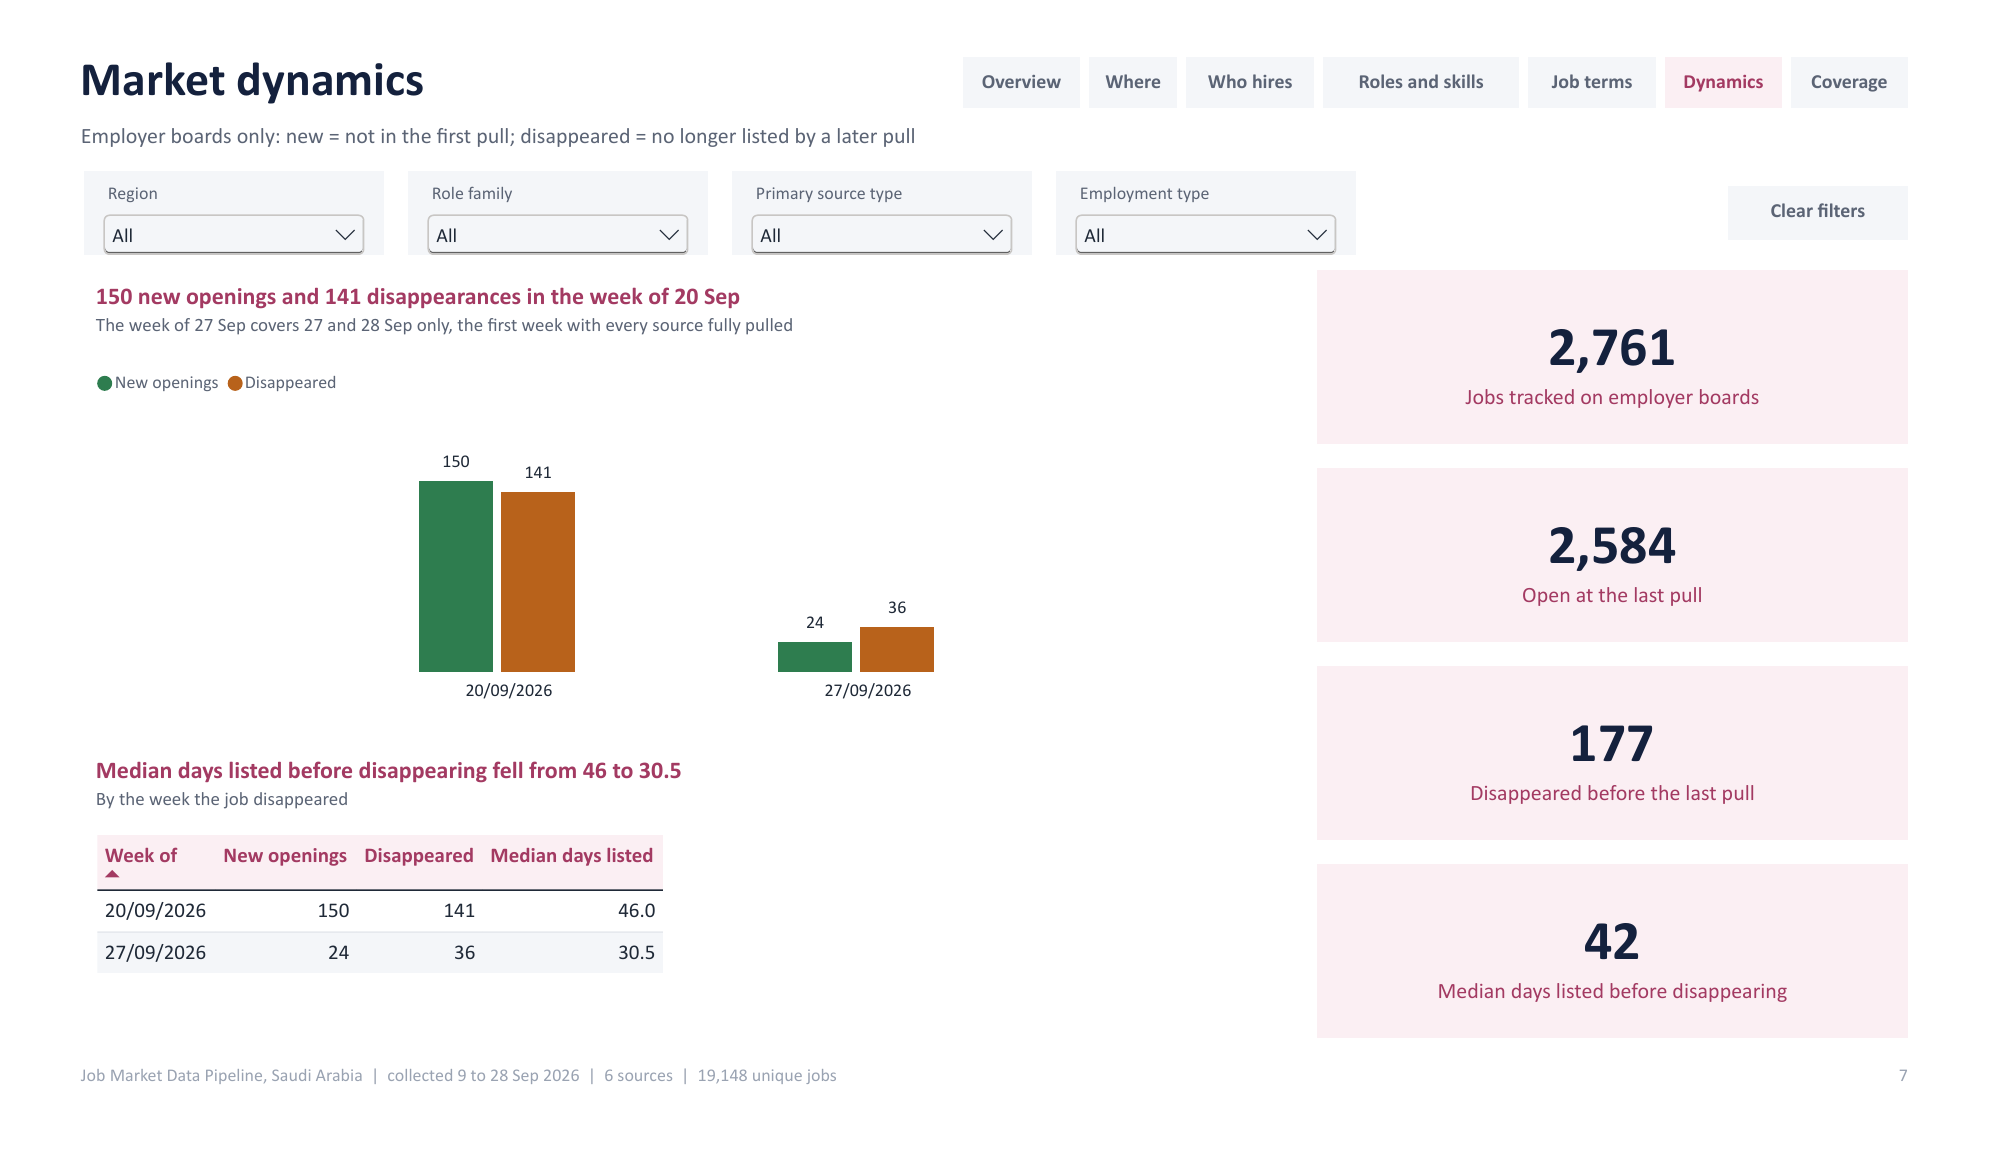

Layout of this report page (visuals, bound fields, positions):
{"tool":"powerbi","page":{"name":"Dynamics","canvas":[1280,720],"ordinal":6},"visuals":[{"type":"textbox","box":[22,2,660,60],"z":1000},{"type":"textbox","box":[22,50,760,36],"z":1100},{"type":"textbox","box":[618,14,78,34],"z":1200},{"type":"actionButton","box":[618,14,78,34],"z":1300},{"type":"textbox","box":[702,14,59,34],"z":1400},{"type":"actionButton","box":[702,14,59,34],"z":1500},{"type":"textbox","box":[767,14,85,34],"z":1600},{"type":"actionButton","box":[767,14,85,34],"z":1700},{"type":"textbox","box":[858,14,131,34],"z":1800},{"type":"actionButton","box":[858,14,131,34],"z":1900},{"type":"textbox","box":[995,14,85,34],"z":2000},{"type":"actionButton","box":[995,14,85,34],"z":2100},{"type":"textbox","box":[1086,14,78,34],"z":2200},{"type":"textbox","box":[1170,14,78,34],"z":2300},{"type":"actionButton","box":[1170,14,78,34],"z":2400},{"type":"slicer","fields":{"Values":["DIM_LOCATION.REGION"]},"box":[32,90,200,56],"z":2500},{"type":"slicer","fields":{"Values":["DIM_ROLE.ROLE_FAMILY"]},"box":[248,90,200,56],"z":2600},{"type":"slicer","fields":{"Values":["DIM_SOURCE.SOURCE_TYPE"]},"box":[464,90,200,56],"z":2700},{"type":"slicer","fields":{"Values":["DIM_JOB_ATTRIBUTES.EMPLOYMENT_TYPE"]},"box":[680,90,200,56],"z":2800},{"type":"textbox","box":[1128,100,120,36],"z":2900},{"type":"actionButton","box":[1128,100,120,36],"z":3000},{"type":"textbox","box":[22,678,940,38],"z":3100},{"type":"textbox","box":[1160,678,96,38],"z":3200},{"type":"clusteredColumnChart","title":"150 new openings and 141 disappearances in the week of 20 Sep","fields":{"Category":["DIM_DATE.WEEK_START_DATE"],"Y":["_Measures.New Openings by Week","_Measures.Disappeared by Week"]},"box":[32,156,806,300],"z":3300},{"type":"tableEx","title":"Median days listed before disappearing fell from 46 to 30.5","fields":{"Values":["DIM_DATE.WEEK_START_DATE","_Measures.New Openings by Week","_Measures.Disappeared by Week","_Measures.Median Days Listed"]},"box":[32,472,806,196],"z":3400},{"type":"card","fields":{"Values":["_Measures.Employer Board Jobs"]},"box":[854,156,394,116],"z":3500},{"type":"card","fields":{"Values":["_Measures.Open Jobs"]},"box":[854,288,394,116],"z":3600},{"type":"card","fields":{"Values":["_Measures.Disappeared Jobs"]},"box":[854,420,394,116],"z":3700},{"type":"card","fields":{"Values":["_Measures.Median Days Listed"]},"box":[854,552,394,116],"z":3800}]}

Visuals, with their boxes in screenshot pixels (x1, y1, x2, y2), scaled from the page's 1280x720 canvas onto the 1992x1152 screenshot:
textbox: Rect(34, 3, 1061, 99)
textbox: Rect(34, 80, 1217, 138)
textbox: Rect(962, 22, 1083, 77)
actionButton: Rect(962, 22, 1083, 77)
textbox: Rect(1092, 22, 1184, 77)
actionButton: Rect(1092, 22, 1184, 77)
textbox: Rect(1194, 22, 1326, 77)
actionButton: Rect(1194, 22, 1326, 77)
textbox: Rect(1335, 22, 1539, 77)
actionButton: Rect(1335, 22, 1539, 77)
textbox: Rect(1548, 22, 1681, 77)
actionButton: Rect(1548, 22, 1681, 77)
textbox: Rect(1690, 22, 1811, 77)
textbox: Rect(1821, 22, 1942, 77)
actionButton: Rect(1821, 22, 1942, 77)
slicer - DIM_LOCATION.REGION: Rect(50, 144, 361, 234)
slicer - DIM_ROLE.ROLE_FAMILY: Rect(386, 144, 697, 234)
slicer - DIM_SOURCE.SOURCE_TYPE: Rect(722, 144, 1033, 234)
slicer - DIM_JOB_ATTRIBUTES.EMPLOYMENT_TYPE: Rect(1058, 144, 1370, 234)
textbox: Rect(1755, 160, 1942, 218)
actionButton: Rect(1755, 160, 1942, 218)
textbox: Rect(34, 1085, 1497, 1146)
textbox: Rect(1805, 1085, 1955, 1146)
"150 new openings and 141 disappearances in the week of 20 Sep" clusteredColumnChart: Rect(50, 250, 1304, 730)
"Median days listed before disappearing fell from 46 to 30.5" tableEx: Rect(50, 755, 1304, 1069)
card - _Measures.Employer Board Jobs: Rect(1329, 250, 1942, 435)
card - _Measures.Open Jobs: Rect(1329, 461, 1942, 646)
card - _Measures.Disappeared Jobs: Rect(1329, 672, 1942, 858)
card - _Measures.Median Days Listed: Rect(1329, 883, 1942, 1069)
